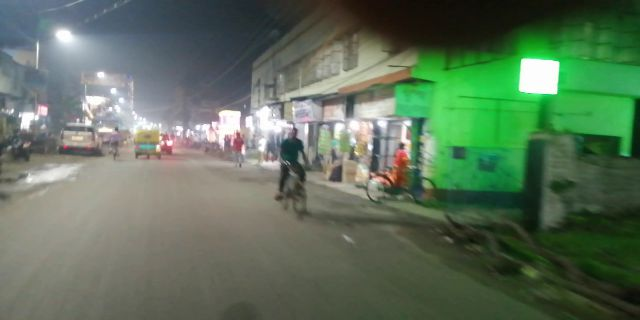Autorickshaw: (134, 130, 164, 158)
Cycle: (273, 124, 319, 216)
